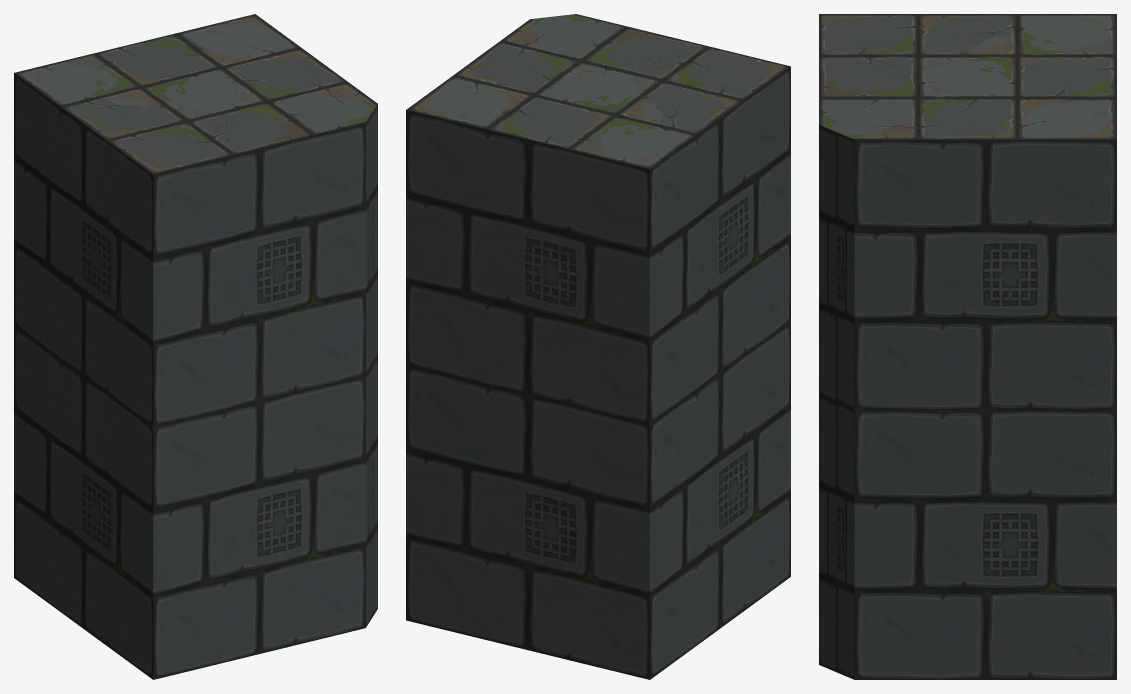
Rendered from wall_corner.glb.
3 views of the same model, side by side, from view 1: azimuth 30°, elevation 25°; view 2: azimuth 150°, elevation 25°; view 3: azimuth 270°, elevation 25° (orthographic). The views are drawn at different scales.
Parts seen in each view (by area): view 1: CandidateMesh; view 2: CandidateMesh; view 3: CandidateMesh.
Part boxes in pixels (x1=…): CandidateMesh: x1=14, y1=14, x2=377, y2=679; CandidateMesh: x1=406, y1=14, x2=790, y2=679; CandidateMesh: x1=819, y1=14, x2=1116, y2=679.
Bounding box in the file's own units: 1 × 2 × 1.
2 materials, 2 textured.
